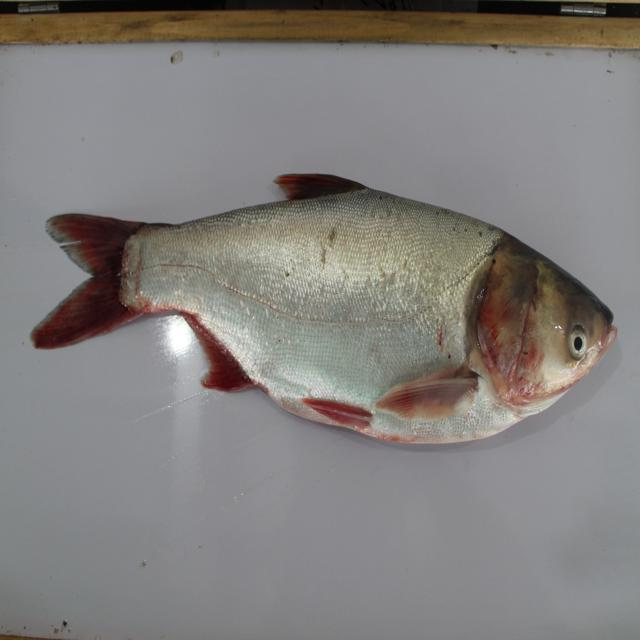SilverCarp: (41, 172, 612, 449)
